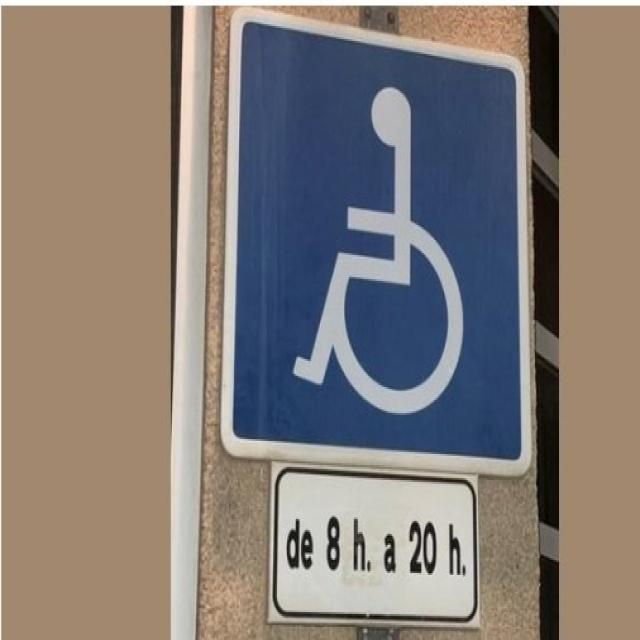symbol_of_access: (218, 8, 535, 483)
